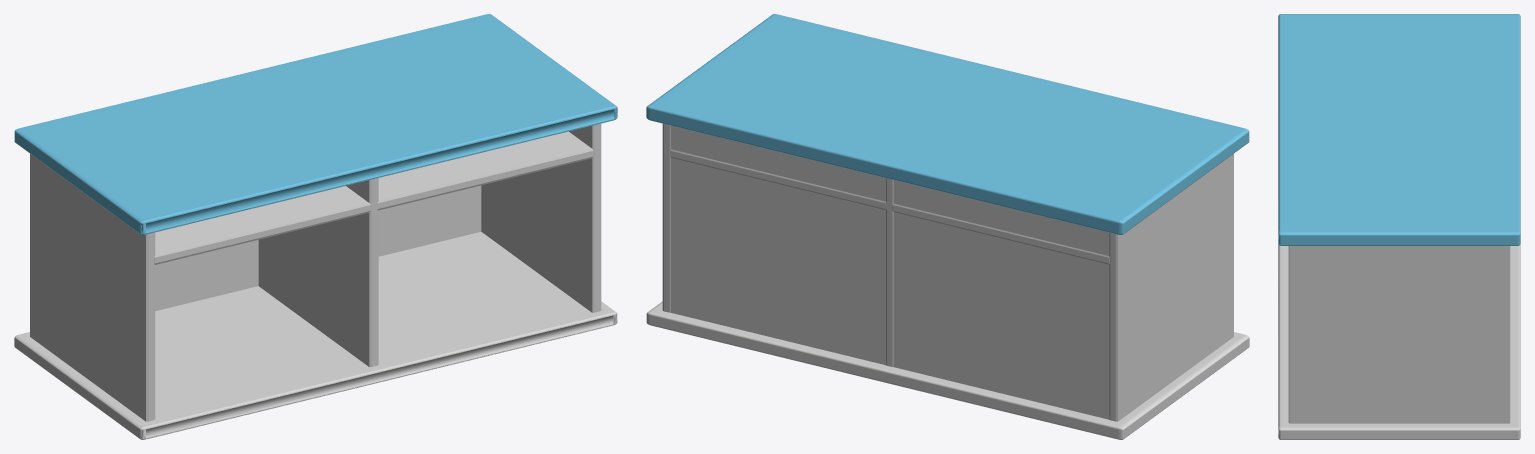
Rendered from comlabdesk.fbx.
3 views of the same model, side by side, from view 1: azimuth 30°, elevation 25°; view 2: azimuth 150°, elevation 25°; view 3: azimuth 270°, elevation 25° (orthographic). The views are drawn at different scales.
Visible parts, largest first — view 1: Cube.004; view 2: Cube.004; view 3: Cube.004.
Part boxes in pixels (<box>): Cube.004: <box>14,14,617,439</box>; Cube.004: <box>646,14,1249,439</box>; Cube.004: <box>1278,14,1520,439</box>.
Size of the model in its own units: 3015 by 1323 by 1398.
